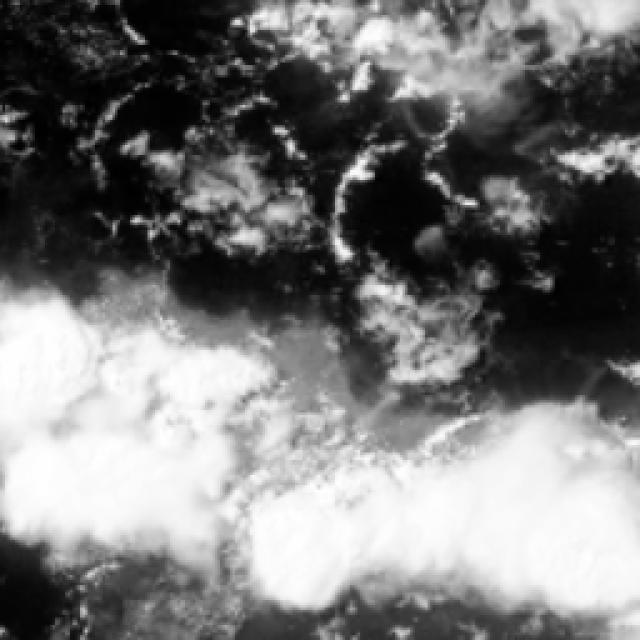CB: (437, 469, 640, 564), (3, 319, 86, 534), (274, 505, 346, 591)
